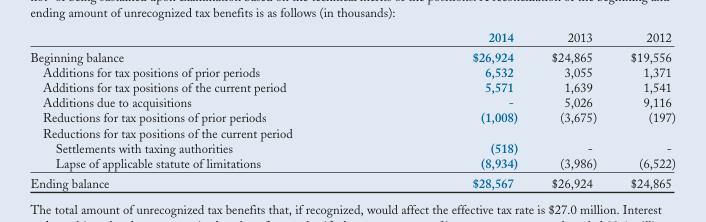table: (29, 28, 675, 190)
table column: (29, 28, 378, 190), (378, 28, 533, 190), (533, 28, 612, 190), (612, 28, 675, 190)
table column header: (29, 28, 675, 46)
table projected row header: (29, 124, 675, 139)
table row: (29, 28, 675, 46), (29, 46, 675, 64), (29, 172, 675, 190), (29, 155, 675, 172), (29, 139, 675, 155), (29, 64, 675, 79), (29, 79, 675, 94), (29, 94, 675, 109), (29, 109, 675, 124), (29, 124, 675, 139)
